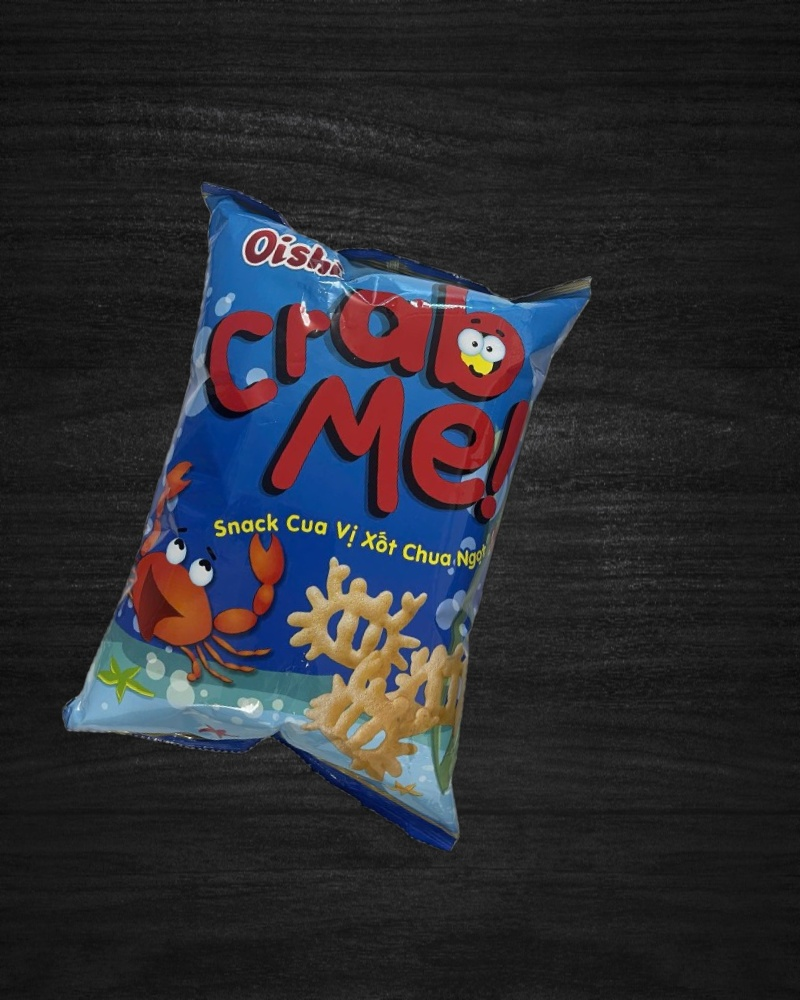Snack chay: (51, 174, 608, 856)
